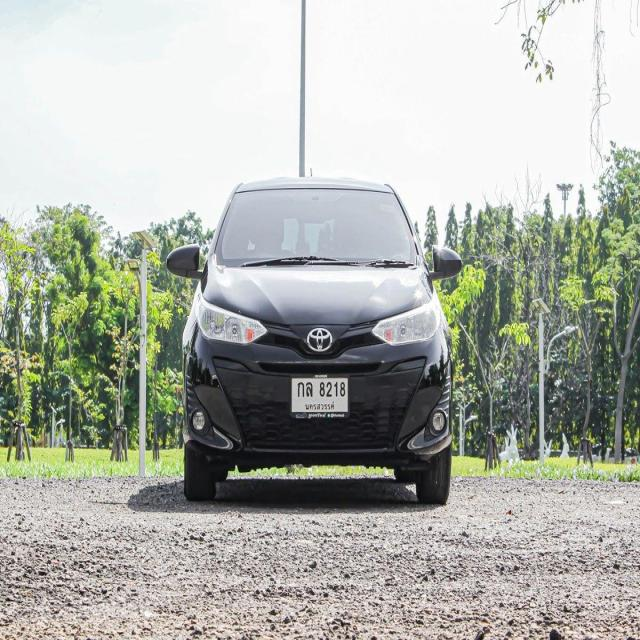license_plate: (289, 367, 352, 426)
